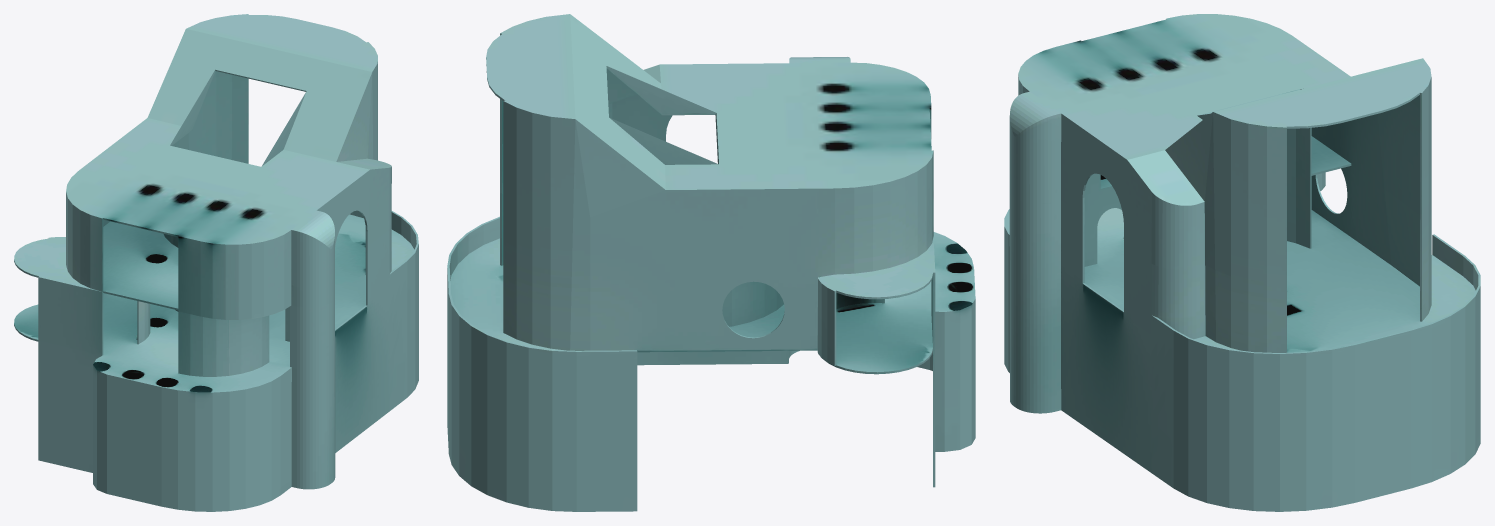
The model's file is structure_full.glb.
3 views of the same model, side by side, from view 1: azimuth 30°, elevation 25°; view 2: azimuth 150°, elevation 25°; view 3: azimuth 270°, elevation 25° (orthographic). The views are drawn at different scales.
Visible parts, largest first — view 1: Structure.full; view 2: Structure.full; view 3: Structure.full.
Boxes of the visible parts, x1=… form: Structure.full: x1=14, y1=14, x2=418, y2=511; Structure.full: x1=447, y1=14, x2=975, y2=511; Structure.full: x1=1004, y1=14, x2=1480, y2=511.
Bounding box in the file's own units: 22.63 × 17.74 × 20.89.
Materials: 1 (1 with a texture image).
